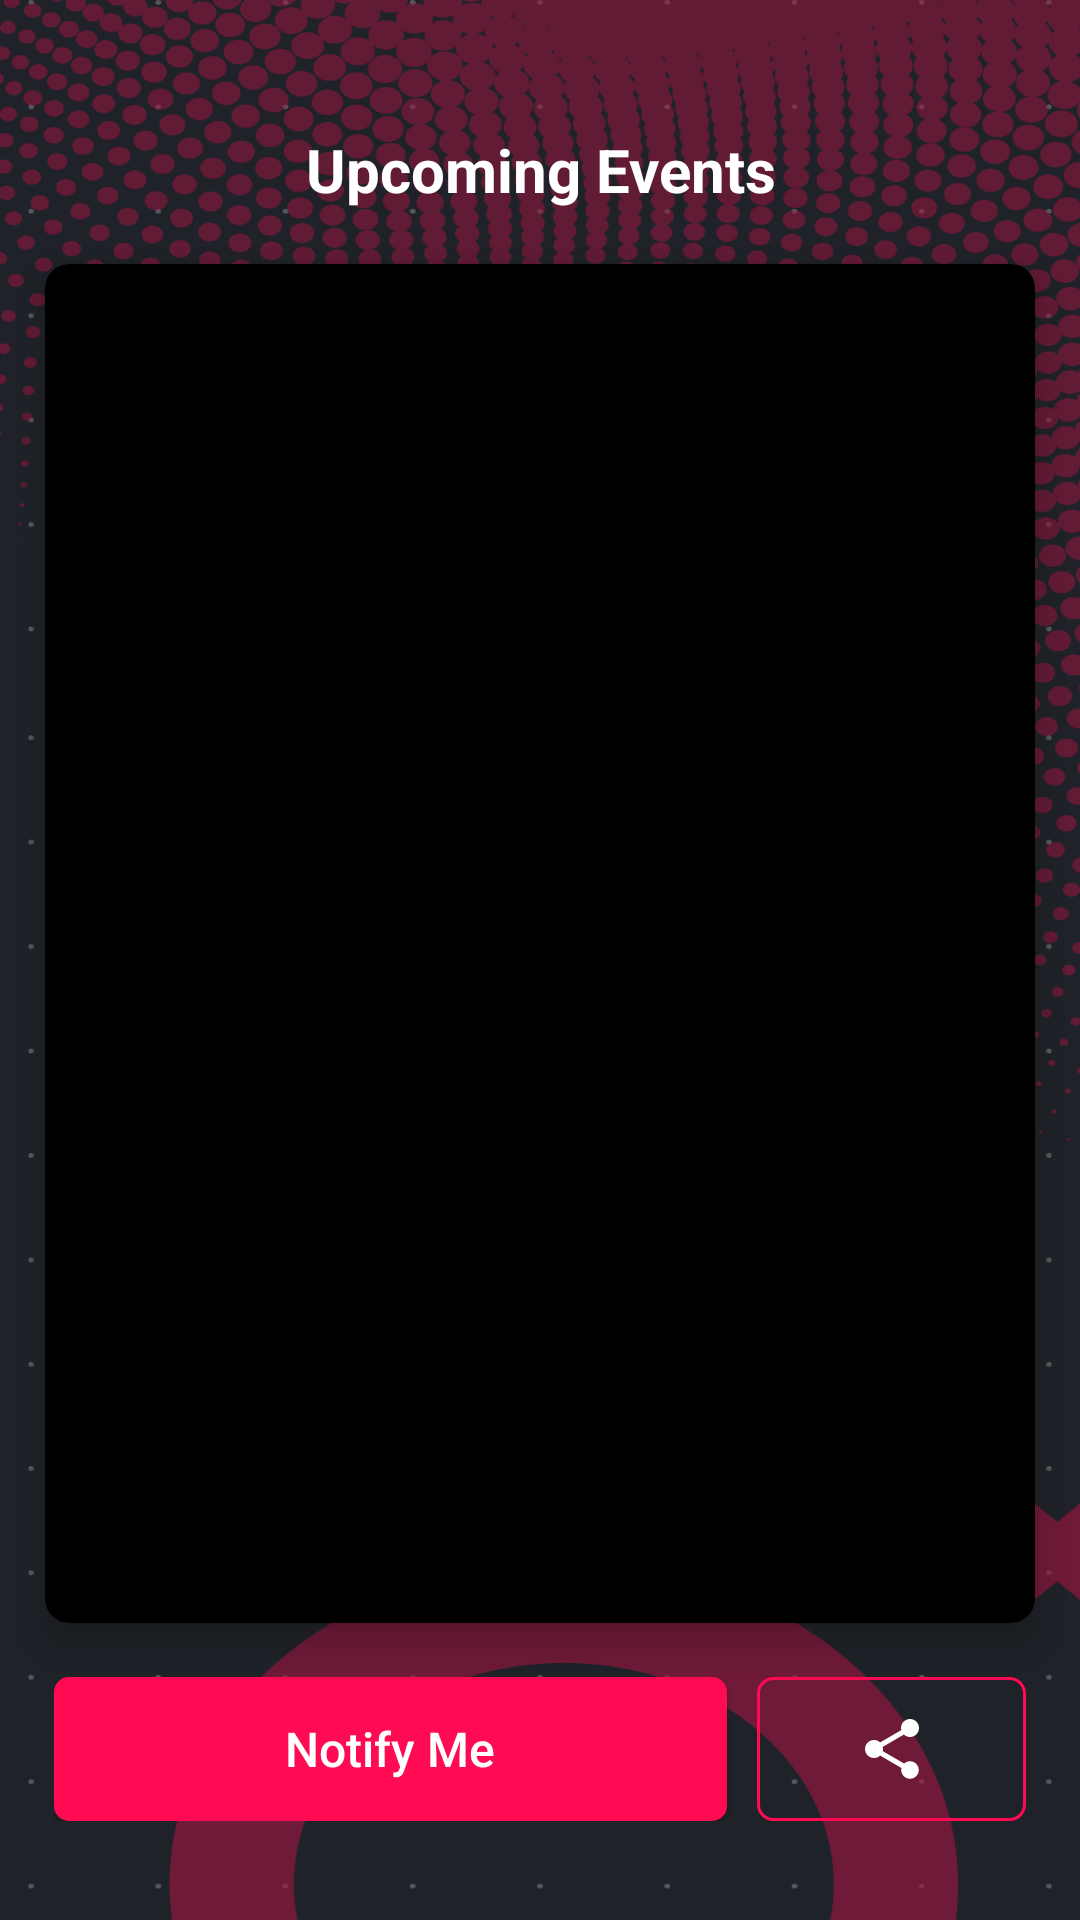

Screen size 1080 x 1920. Icon name, then its box in pixels as {"x1": x1, "y1": y1, "x2": x2, "y2": y2}:
share: {"x1": 757, "y1": 1677, "x2": 1026, "y2": 1821}
